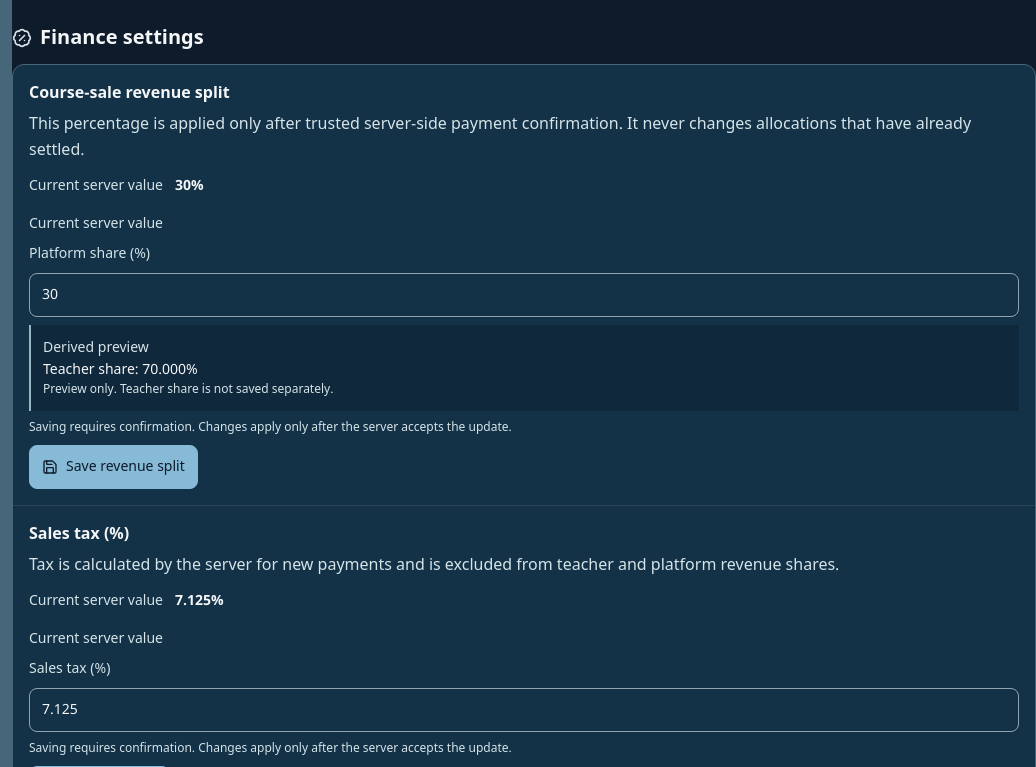
Test: Slice 5 Finance en — MOCKED UI-CONTRACT EVIDENCE › preserves independent local drafts across successful source refresh and never saves on change/blur
This screenshot has width=1036, height=767.
expect the number field labelled "Sales tax (%)" holds "7.125": met, box x1=29 y1=688 x2=1019 y2=732
Replace the text in the number field labelled "Platform share (%)" with "31.125": (524, 295) x1=29 y1=273 x2=1019 y2=317
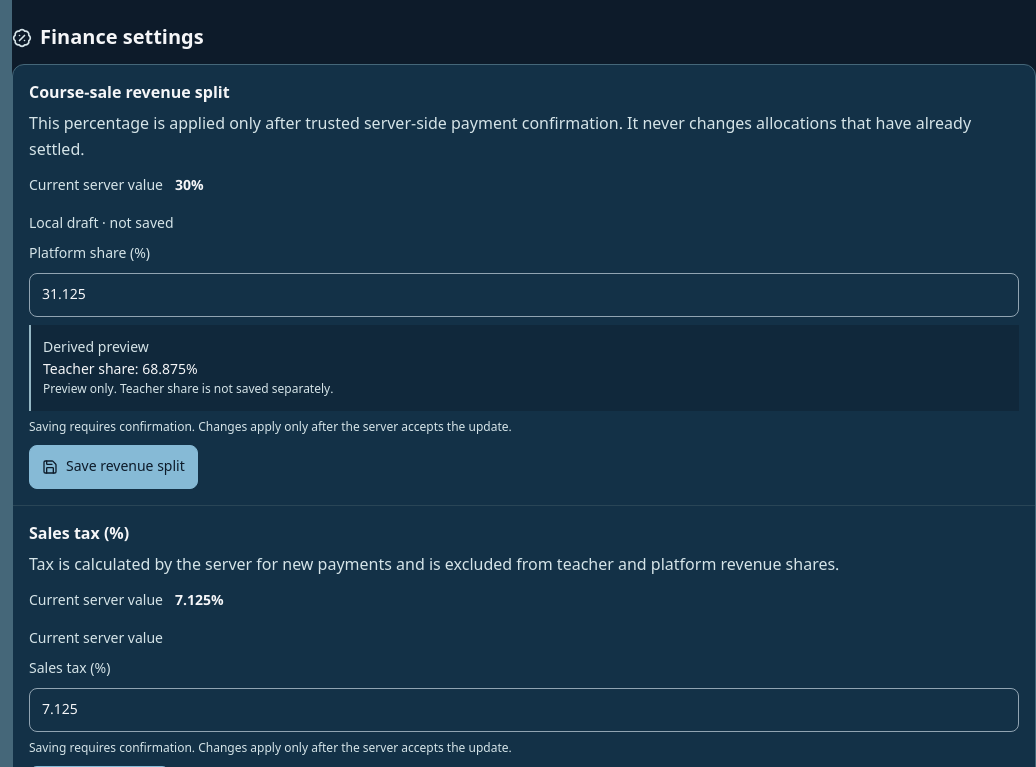
Replace the text in the number field labelled "Sales tax (%)" with "8.625": (524, 710) x1=29 y1=688 x2=1019 y2=732
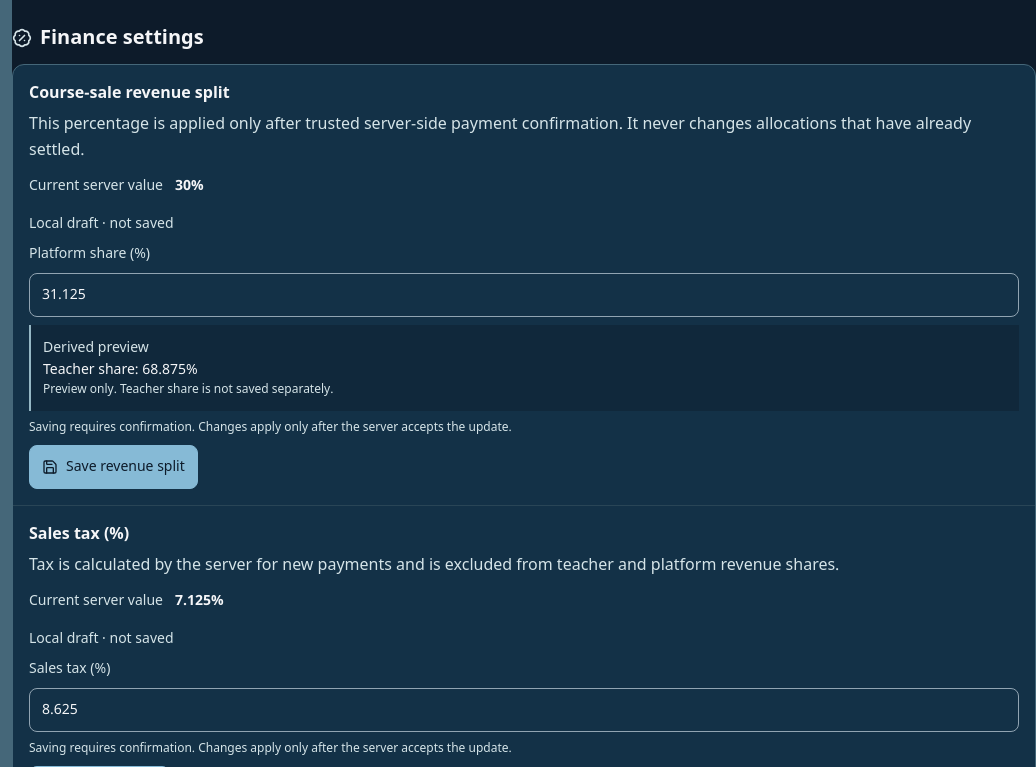
Leave the number field labelled "Sales tax (%)", box x1=29 y1=688 x2=1019 y2=732
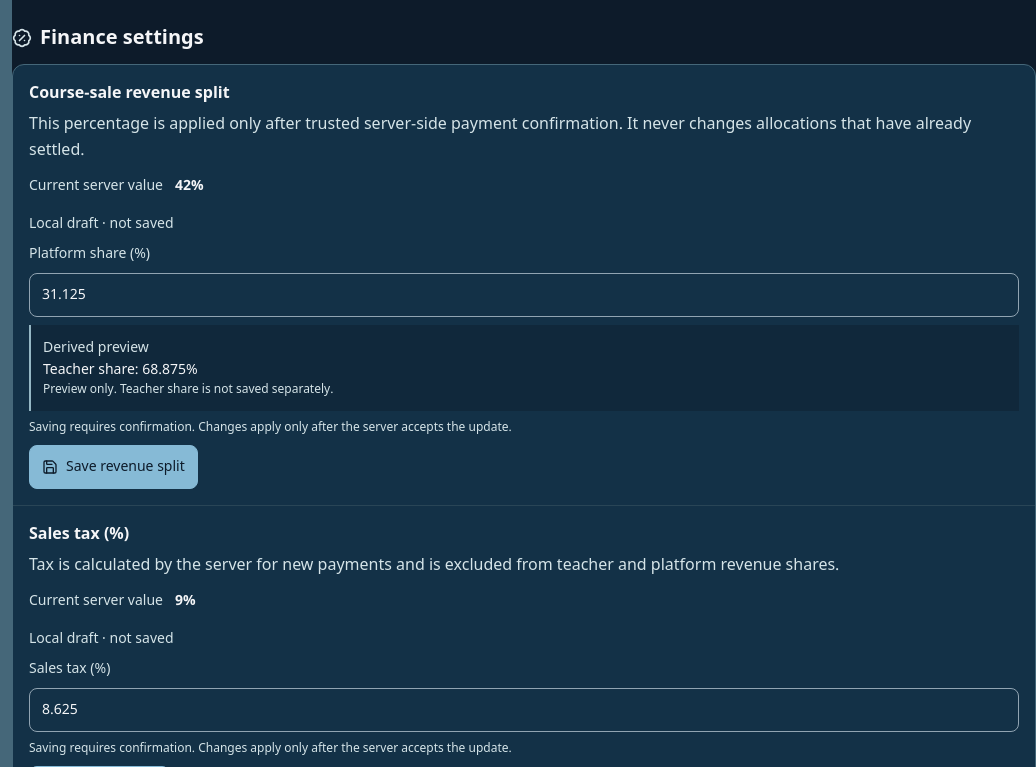
expect the text "42%" is shown: met, box x1=175 y1=171 x2=204 y2=200
